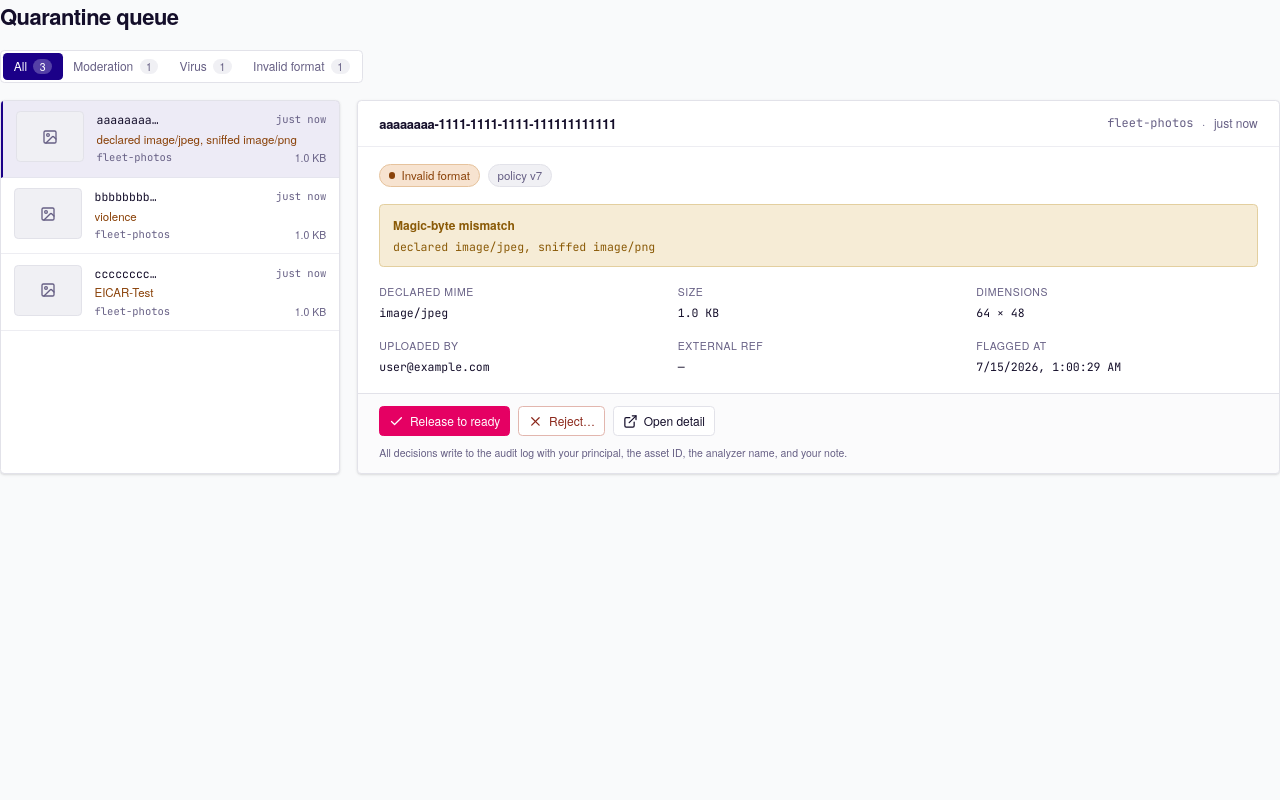
Scenario: QuarantinePage › opens the reject modal when Reject is clicked
Click the button "Reject…": [561, 421] box [518, 406, 604, 436]
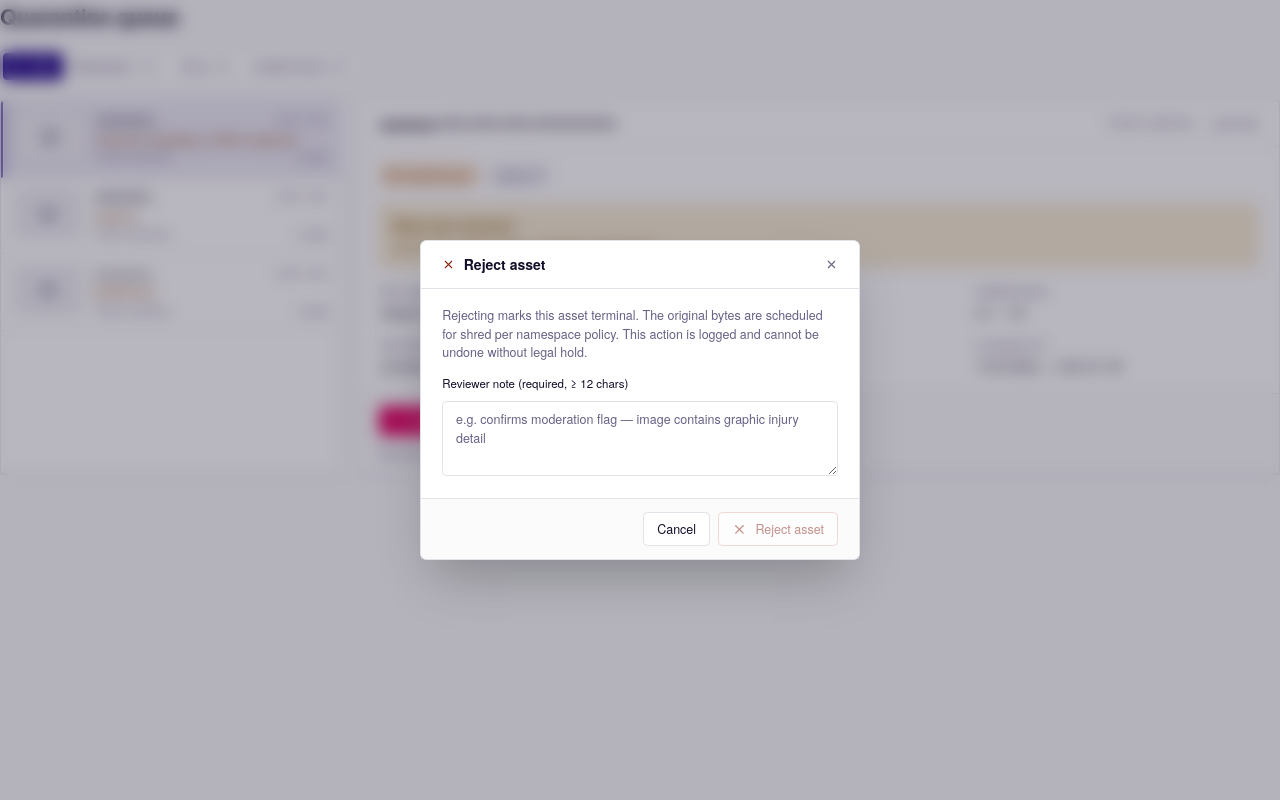
Check: the text box with placeholder "confirms moderation flag" is shown, box [442, 400, 838, 476]
